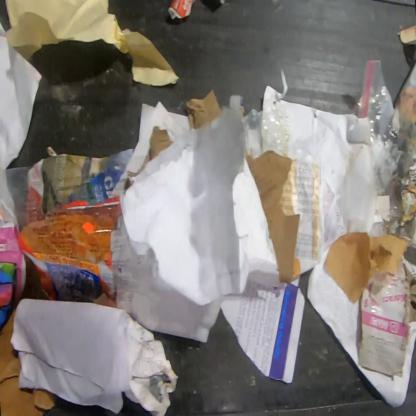cardboard: (245, 149, 300, 284), (358, 257, 415, 379), (0, 307, 59, 415), (184, 89, 222, 130), (149, 126, 174, 162)
rigid_plastic: (167, 0, 197, 20)
soft_plastic: (348, 59, 415, 235), (227, 93, 291, 158), (0, 165, 39, 227)
